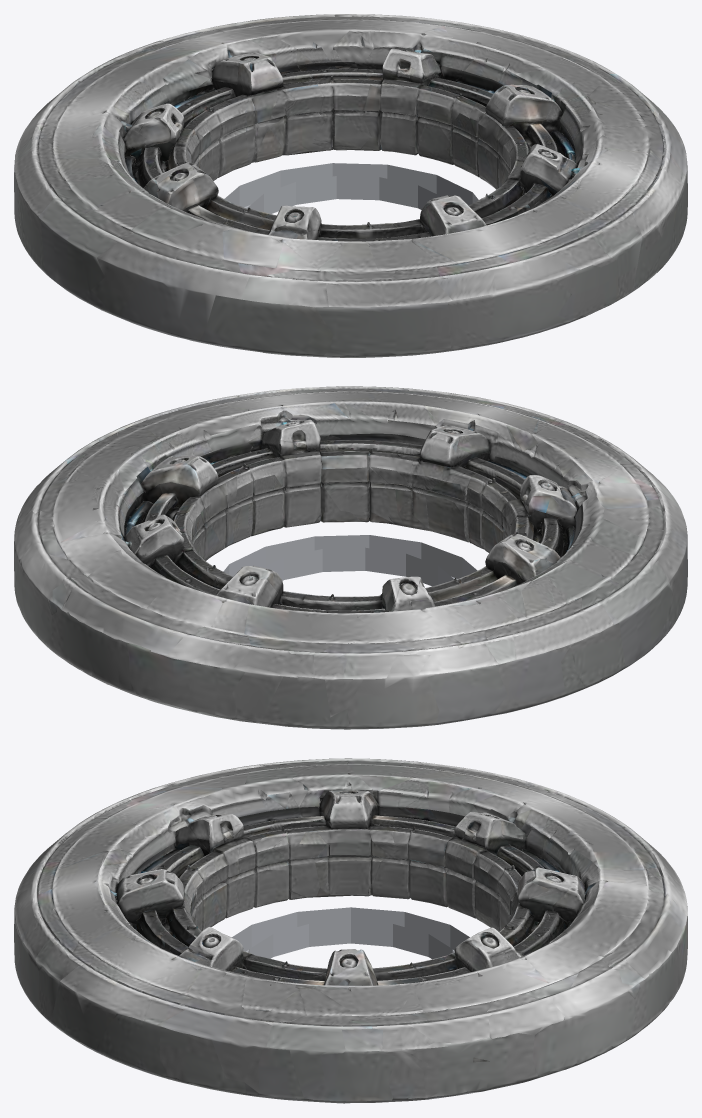
The model's file is cartwheel.glb.
3 views of the same model, one above another, from view 1: azimuth 30°, elevation 25°; view 2: azimuth 150°, elevation 25°; view 3: azimuth 270°, elevation 25° (orthographic).
Parts seen in each view (by area): view 1: mesh_node; view 2: mesh_node; view 3: mesh_node.
Boxes of the visible parts, x1,y1,x2,y2 form: mesh_node: (14,14,687,357); mesh_node: (14,386,687,729); mesh_node: (14,758,687,1103).
Size of the model in its own units: 52.77 by 10.17 by 52.77.
Materials: 2 (1 with a texture image).
